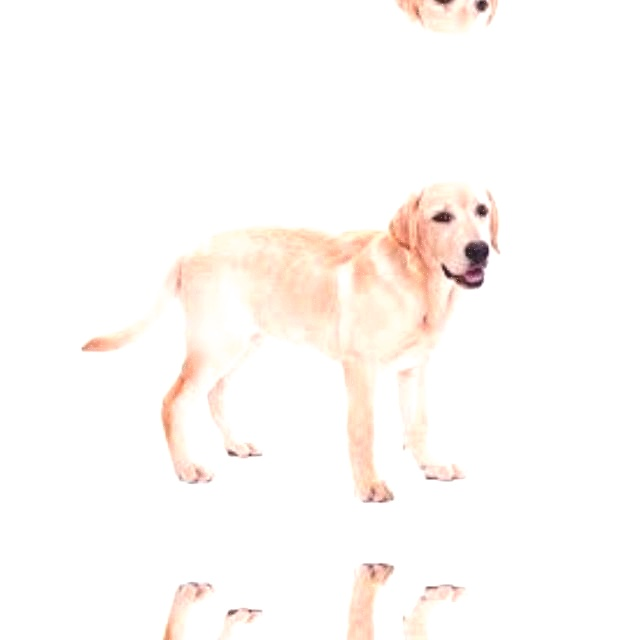dog: (66, 145, 515, 510), (67, 556, 516, 640), (67, 0, 516, 69)
